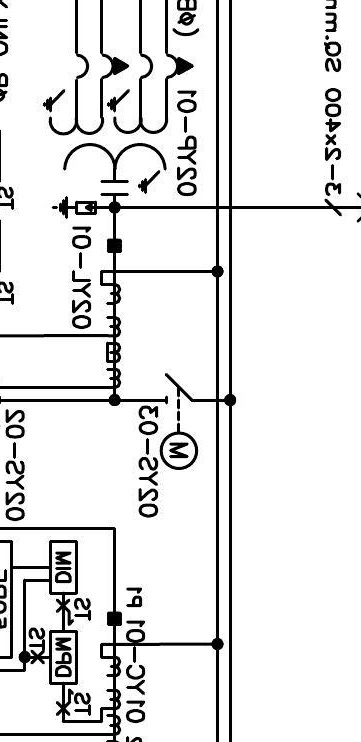115_1way_ds_w_motor: (159, 372, 200, 471)
115_cvt_1p: (42, 51, 195, 197)
115_la: (51, 196, 97, 220)
DIM: (49, 539, 78, 595)
DPM: (48, 629, 78, 686)
